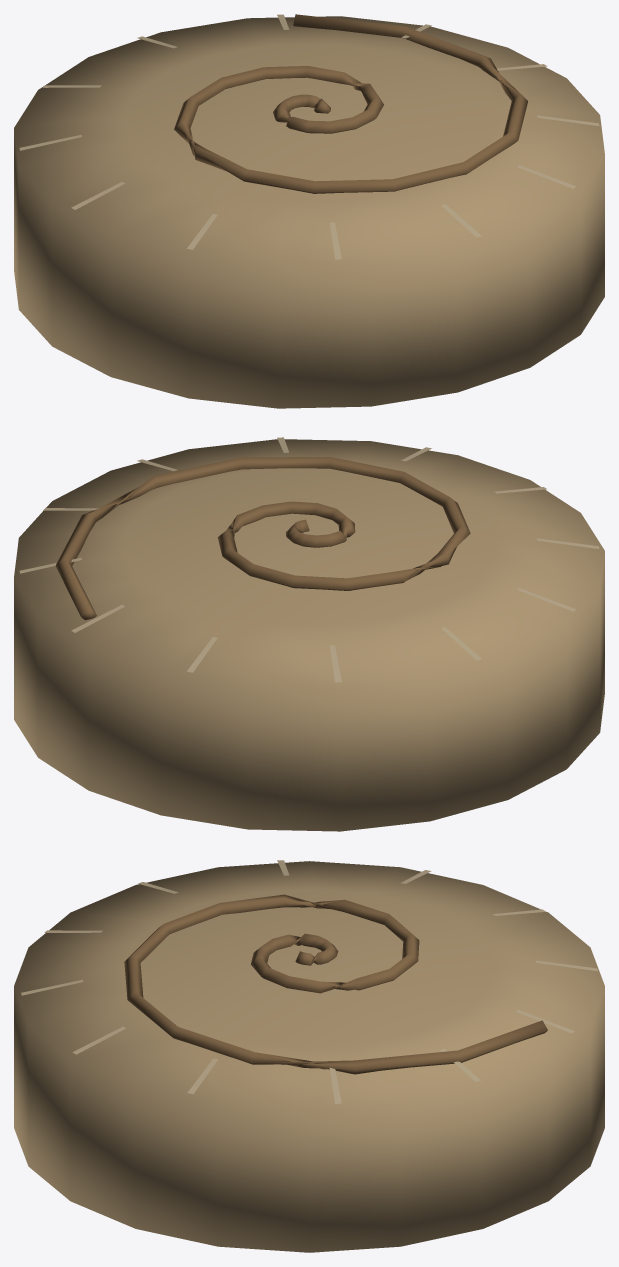
File: exhibit_spiral_fossil.glb
The picture shows the model from 3 angles, top to bottom: view 1: azimuth 30°, elevation 25°; view 2: azimuth 150°, elevation 25°; view 3: azimuth 270°, elevation 25°; orthographic projection.
Visible parts, largest first — view 1: Body; view 2: Body; view 3: Body.
Part boxes in pixels (x1=…): Body: x1=14, y1=14, x2=604, y2=408; Body: x1=14, y1=437, x2=604, y2=831; Body: x1=14, y1=860, x2=604, y2=1252.
Bounding box in the file's own units: 0.29 × 0.0978 × 0.29.
